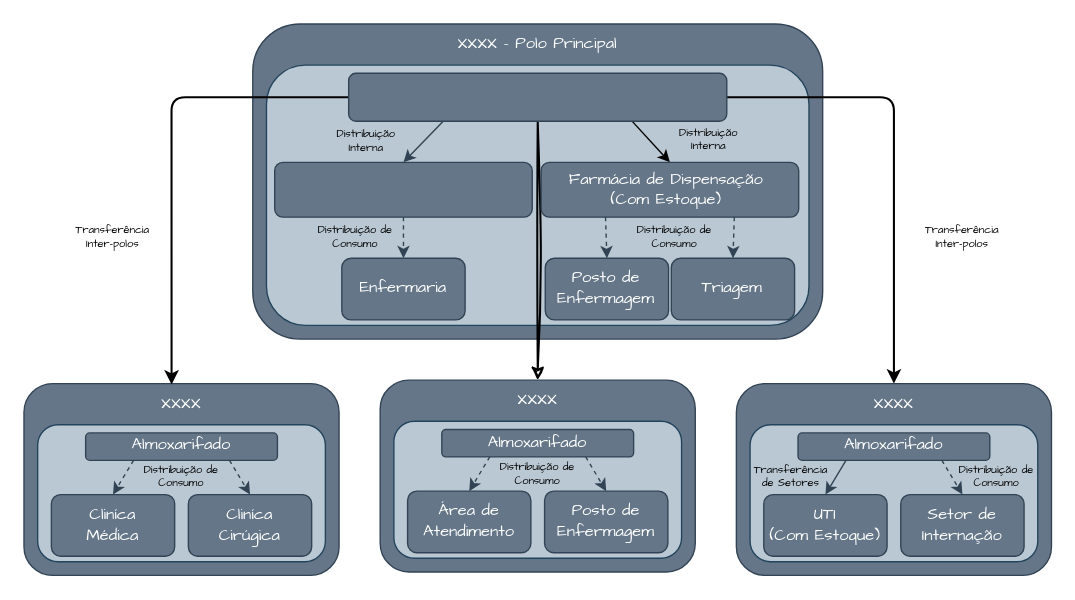
Some shapes in this 1075 by 600 pixel diagram are drawn without their labels. The shapes that lost their labels are listed below. From the top down, each one's centre as x and y in pixels, then its label:
At point 537,96: "Central de Abastecimento Farmacêutico (CAF) (Estoque Principal)".
At point 402,189: "Farmácia Emergência/Satélite (Com Estoque)".
